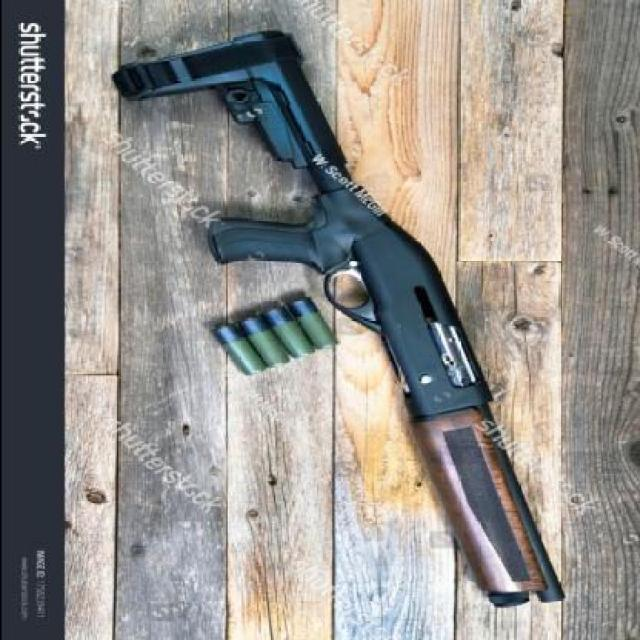weapon: (110, 28, 564, 606)
